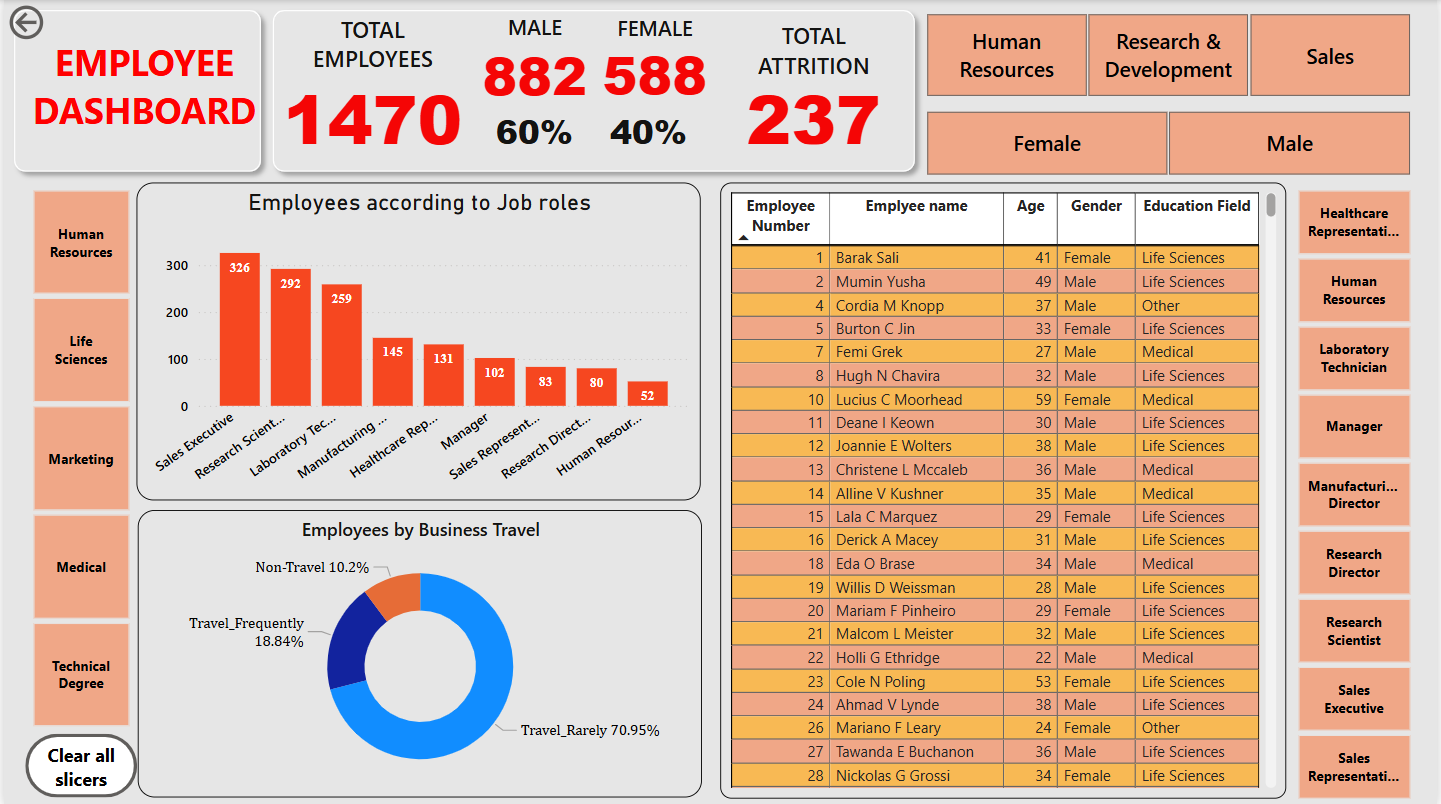

The page's visual inventory and layout, read from the dashboard file:
{"tool":"powerbi","page":{"name":"EMPLOYEES DASHBOARD","canvas":[1280,720],"ordinal":4},"visuals":[{"type":"shape","box":[0,0,238.5,162.3],"z":0},{"type":"shape","box":[231.2,0,591.4,162.3],"z":1000},{"type":"textbox","box":[18.6,11.4,212.9,135.7],"z":2000},{"type":"card","title":"TOTAL EMPLOYEES","fields":{"Values":["HR_Measures.Total_Employees"]},"box":[242.2,12.3,174.6,129.1],"z":3000},{"type":"card","title":"MALE","fields":{"Values":["HR_Measures.Male"]},"box":[416.8,11.1,115.6,83.6],"z":4000},{"type":"card","fields":{"Values":["HR_Measures.%Male"]},"box":[431.9,95.2,83.3,46.4],"z":5000},{"type":"card","title":"FEMALE","fields":{"Values":["HR_Measures.Female"]},"box":[522.6,12.3,118,79.9],"z":6000},{"type":"card","fields":{"Values":["HR_Measures.%Female"]},"box":[529.5,95.2,92.8,46.4],"z":7000},{"type":"actionButton","box":[18.6,655.7,100,57.1],"z":8000},{"type":"columnChart","title":"Employees according to Job roles","fields":{"Y":["HR_Measures.Total_Employees"],"Category":["Job_Information.Job Role"]},"box":[118.6,162.9,504.3,284.3],"z":9000},{"type":"donutChart","title":"Employees by Business Travel","fields":{"Y":["HR_Measures.Total_Employees"],"Category":["Job_Information.Business Travel"]},"box":[120,455.7,504.3,257.1],"z":10000},{"type":"slicer","fields":{"Values":["Job_Information.Department"]},"box":[798.6,5.7,481.4,87.1],"z":11000},{"type":"actionButton","box":[0,0,100,40],"z":12000},{"type":"card","title":"TOTAL ATTRITION","fields":{"Values":["HR_Measures.Attrition_Count"]},"box":[640.7,17.4,165.1,116.3],"z":13000},{"type":"slicer","fields":{"Values":["Employee_Details.Gender"]},"box":[798.6,92.9,481.4,70],"z":14000},{"type":"slicer","fields":{"Values":["Job_Information.Job Role"]},"box":[1130,162.9,150,557.1],"z":15000},{"type":"slicer","fields":{"Values":["Employee_Details.Education Field"]},"box":[0,162.9,135.7,492.9],"z":16000},{"type":"tableEx","fields":{"Values":["Employee_Names.Employee Number","Employee_Names.Emplyee name","Employee_Details.Age","Employee_Details.Gender","Employee_Details.Education Field"]},"box":[640,162.9,505.7,550],"z":17000}]}

Visuals, with their boxes in screenshot pixels (x1, y1, x2, y2), scaled from the page's 1280x720 canvas onto the 1441x804 screenshot:
shape: 0,0,268,181
shape: 260,0,926,181
textbox: 21,13,261,164
"TOTAL EMPLOYEES" card: 273,14,469,158
"MALE" card: 469,12,599,106
card - HR_Measures.%Male: 486,106,580,158
"FEMALE" card: 588,14,721,103
card - HR_Measures.%Female: 596,106,701,158
actionButton: 21,732,134,796
"Employees according to Job roles" columnChart: 134,182,701,499
"Employees by Business Travel" donutChart: 135,509,703,796
slicer - Job_Information.Department: 899,6,1440,104
actionButton: 0,0,113,45
"TOTAL ATTRITION" card: 721,19,907,149
slicer - Employee_Details.Gender: 899,104,1440,182
slicer - Job_Information.Job Role: 1272,182,1440,803
slicer - Employee_Details.Education Field: 0,182,153,732
tableEx - Employee_Names.Employee Number x Employee_Names.Emplyee name: 720,182,1290,796
